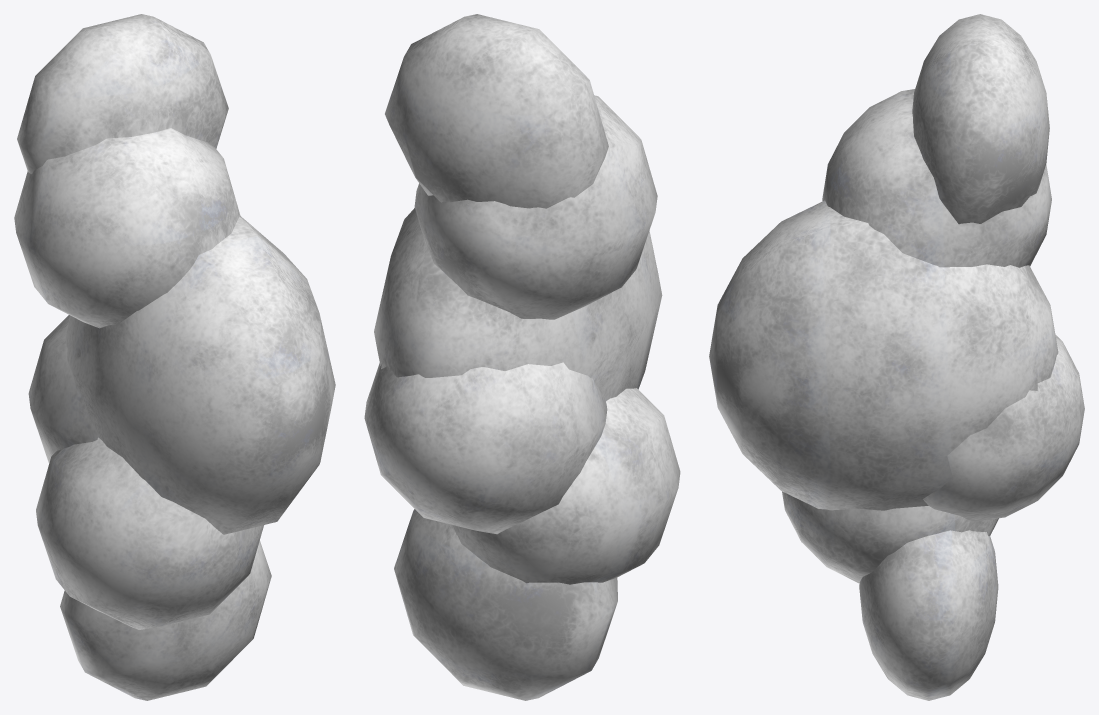
The model's file is cloud.fbx.
The picture shows the model from 3 angles, left to right: view 1: azimuth 30°, elevation 25°; view 2: azimuth 150°, elevation 25°; view 3: azimuth 270°, elevation 25°; orthographic projection. The views are drawn at different scales.
Visible parts, largest first — view 1: pSphere7; view 2: pSphere7; view 3: pSphere7.
Boxes of the visible parts, left/top/right/bottom form: pSphere7: left=14, top=14, right=335, bottom=700; pSphere7: left=364, top=14, right=680, bottom=700; pSphere7: left=709, top=14, right=1084, bottom=700.
Size of the model in its own units: 163 by 409 by 215.
